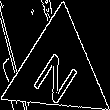N_NE: (29, 37, 86, 102)
